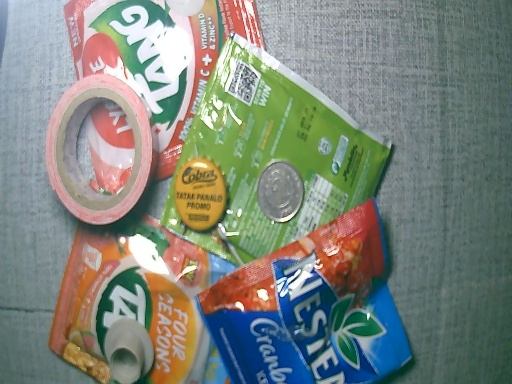metal: (173, 156, 227, 233), (258, 160, 303, 225)
plastic: (158, 46, 390, 253), (197, 199, 412, 384), (64, 1, 269, 186), (45, 209, 248, 384)
trash: (44, 74, 155, 229), (101, 315, 154, 384)
